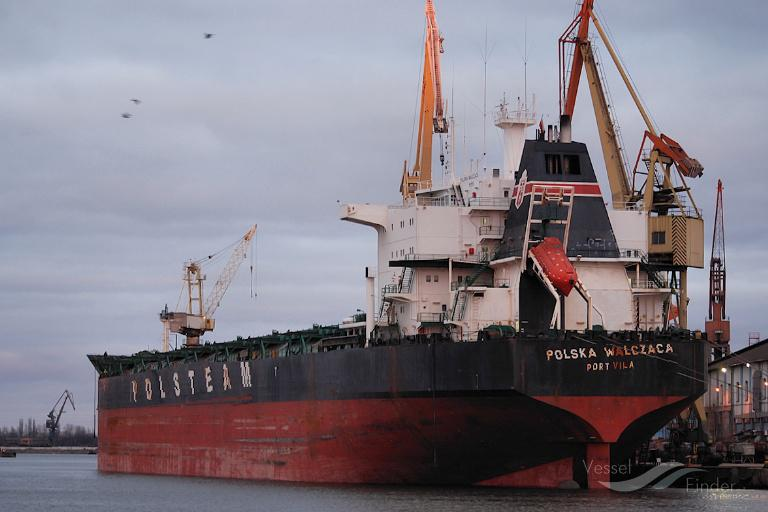OCR: (124, 362, 252, 408), (540, 344, 678, 384)
